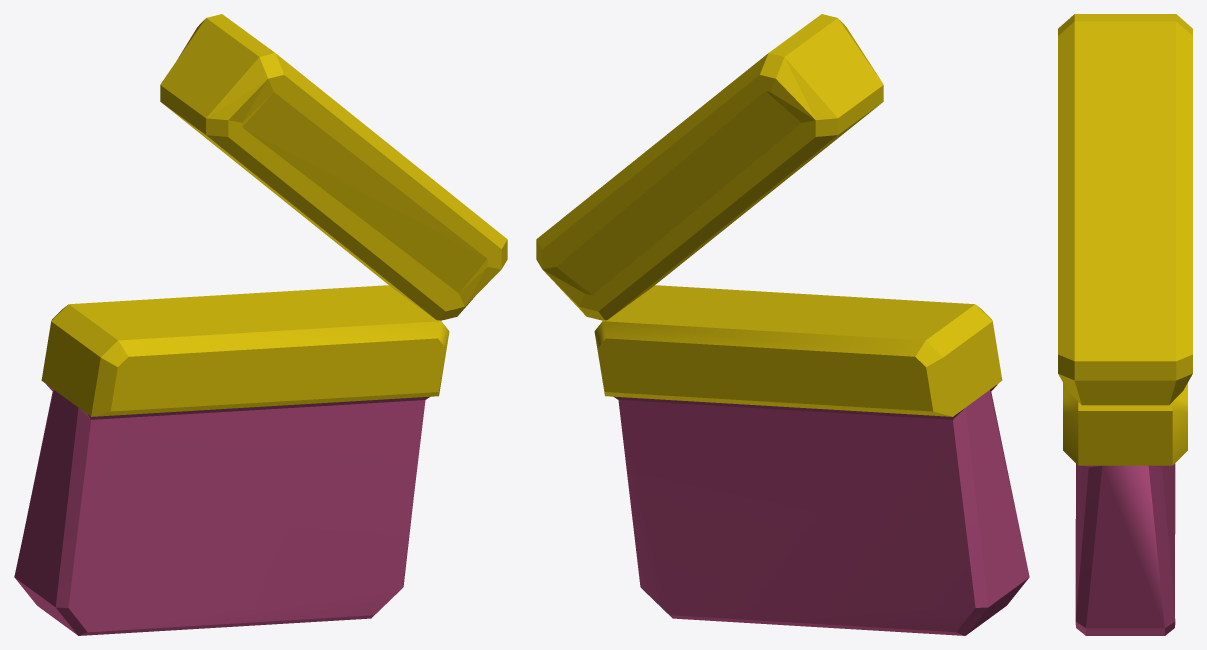
Rendered from Clapper board.FBX.
3 renders of one model, left to right at view 1: azimuth 30°, elevation 25°; view 2: azimuth 150°, elevation 25°; view 3: azimuth 270°, elevation 25°, orthographic. The views are drawn at different scales.
Visible parts, largest first — view 1: Clapper board; view 2: Clapper board; view 3: Clapper board.
Part boxes in pixels (<box>): Clapper board: <box>14,14,507,635</box>; Clapper board: <box>536,14,1029,635</box>; Clapper board: <box>1058,14,1192,635</box>.
Size of the model in its own units: 852 by 234 by 1086.
